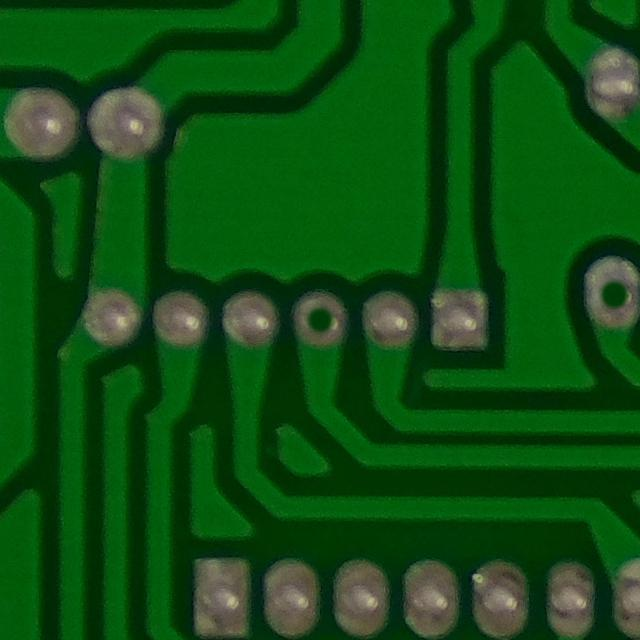missing_hole: (578, 250, 640, 337), (284, 283, 358, 355)
